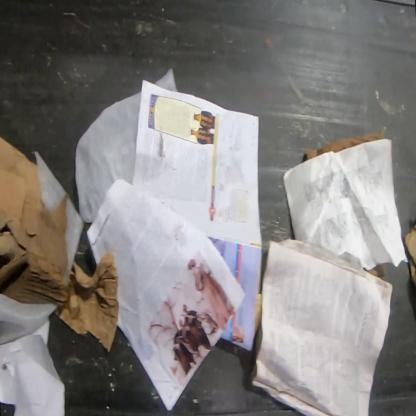cardboard: (0, 136, 69, 311), (52, 248, 120, 354), (306, 122, 390, 160), (402, 222, 415, 289), (363, 262, 389, 283)
